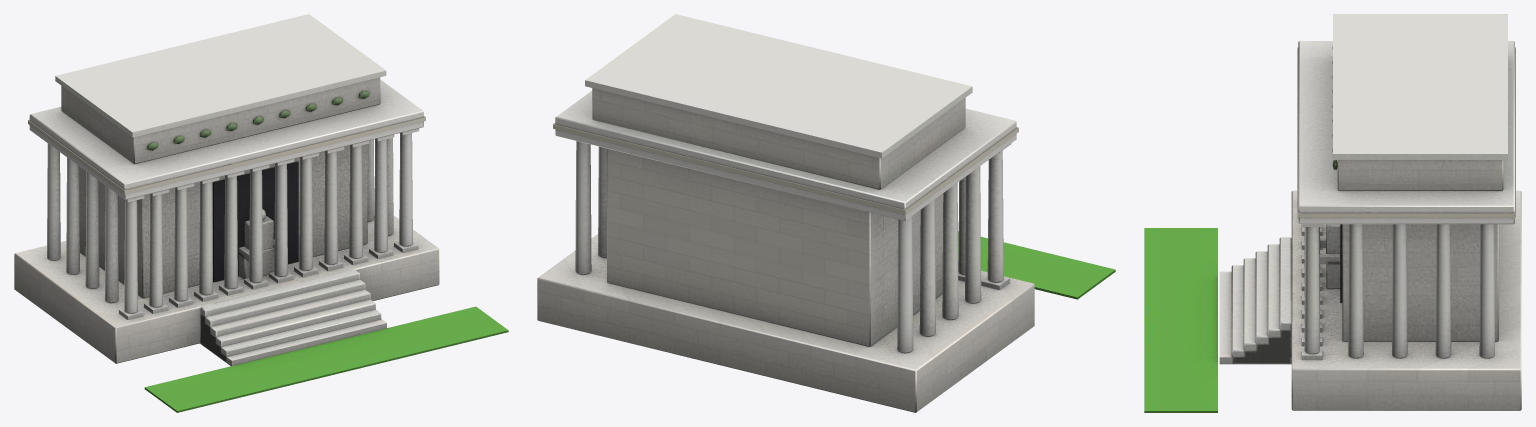
File: lincoln.glb
3 renders of one model, left to right at view 1: azimuth 30°, elevation 25°; view 2: azimuth 150°, elevation 25°; view 3: azimuth 270°, elevation 25°, orthographic. The views are drawn at different scales.
Parts seen in each view (by area): view 1: lincoln; view 2: lincoln; view 3: lincoln.
Part boxes in pixels (left/top/right/bottom): lincoln: left=14, top=14, right=508, bottom=412; lincoln: left=537, top=14, right=1115, bottom=412; lincoln: left=1144, top=14, right=1521, bottom=412.
Bounding box in the file's own units: 9.4 × 5.69 × 8.2.
Materials: 1 (1 with a texture image).
